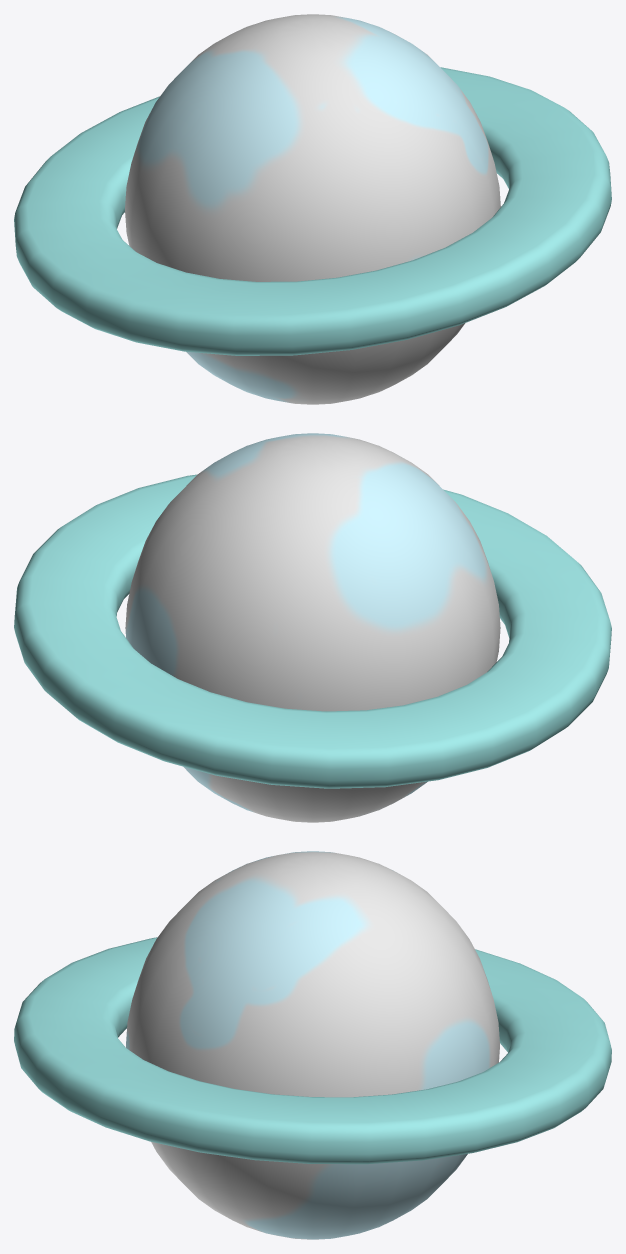
The model's file is planet-2.gltf.
3 renders of one model, top to bottom at view 1: azimuth 30°, elevation 25°; view 2: azimuth 150°, elevation 25°; view 3: azimuth 270°, elevation 25°, orthographic.
Visible parts, largest first — view 1: Sphere, Cylinder; view 2: Sphere, Cylinder; view 3: Sphere, Cylinder.
Boxes of the visible parts, <box> form: Sphere: <box>125,14,500,404</box>; Cylinder: <box>14,67,611,355</box>; Sphere: <box>125,433,500,822</box>; Cylinder: <box>14,474,611,788</box>; Sphere: <box>126,851,499,1239</box>; Cylinder: <box>14,937,611,1164</box>.
Size of the model in its own units: 3.01 by 1.98 by 3.02.
Materials: 2 (1 with a texture image).
